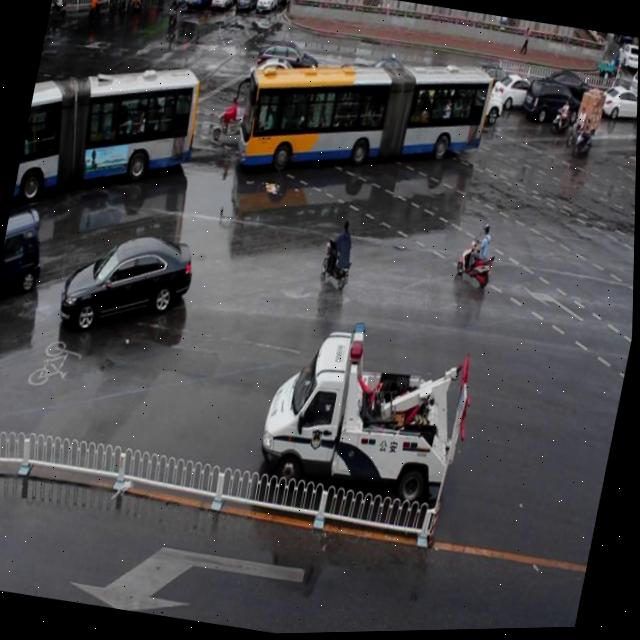bus: (254, 311, 473, 515)
car: (57, 222, 199, 347), (0, 205, 50, 305), (521, 77, 586, 130), (538, 69, 596, 108), (486, 70, 537, 113), (595, 83, 638, 128)
van: (233, 32, 493, 206)
